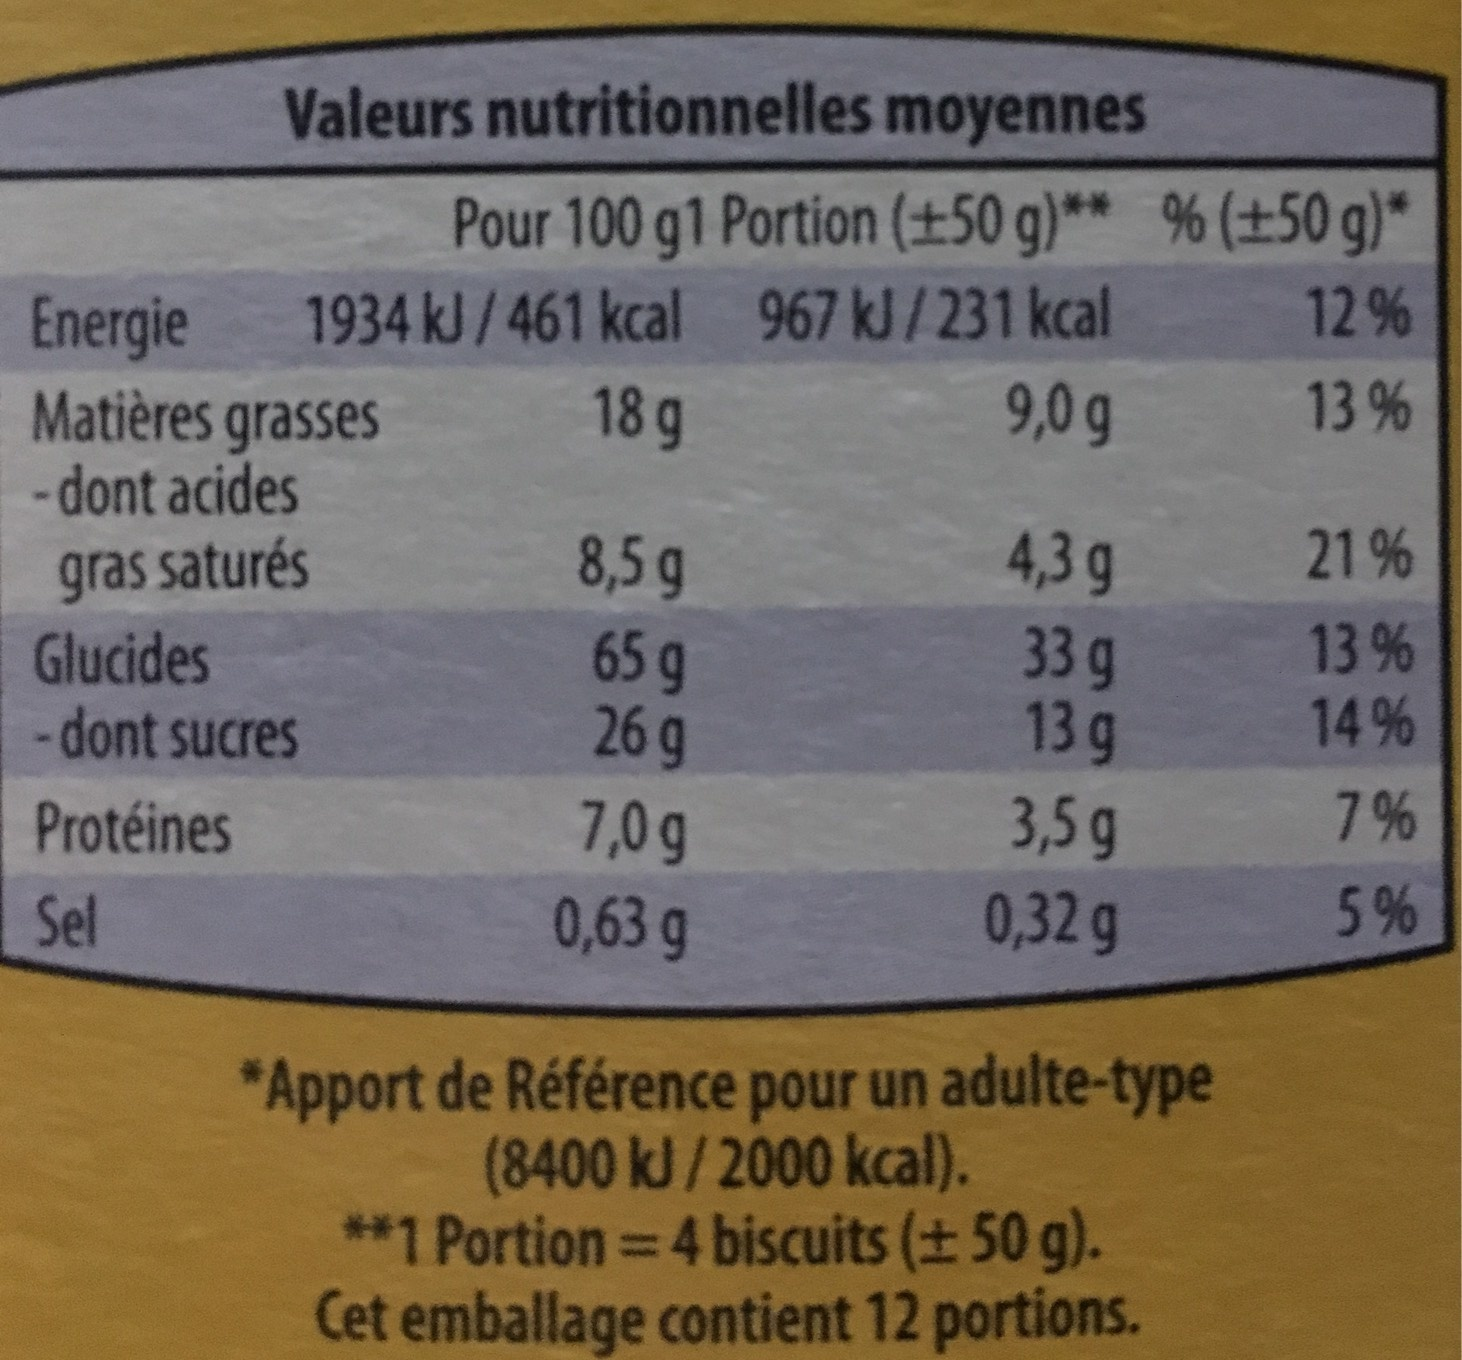column: (688, 176, 1140, 996), (294, 184, 686, 992), (1151, 173, 1429, 992), (4, 268, 288, 992)
table: (6, 176, 1444, 956)
